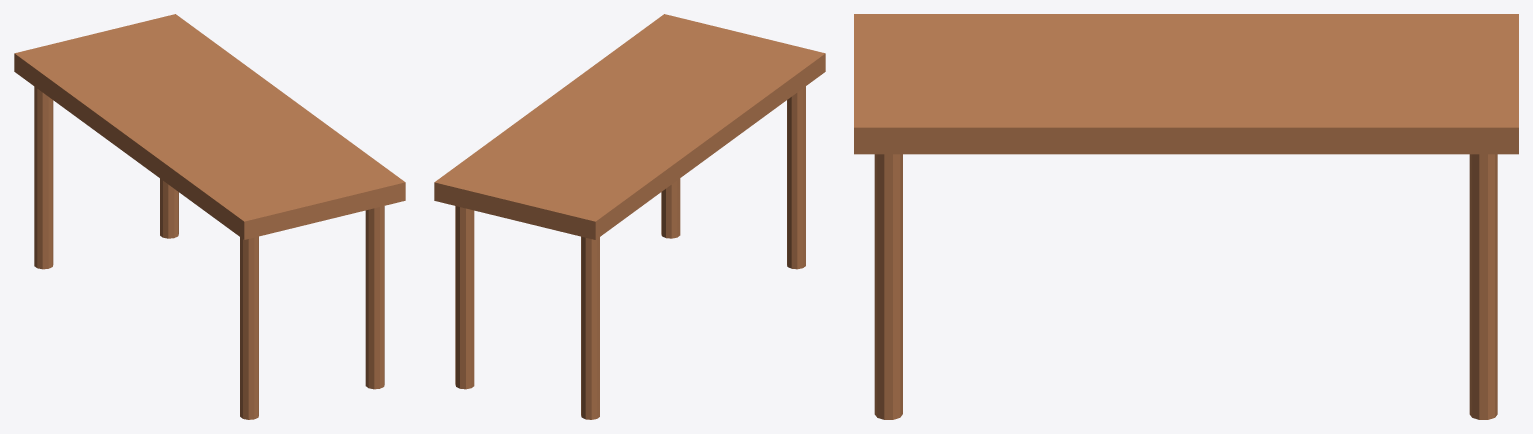
Rendered from Table.fbx.
3 views of the same model, side by side, from view 1: azimuth 30°, elevation 25°; view 2: azimuth 150°, elevation 25°; view 3: azimuth 270°, elevation 25° (orthographic). The views are drawn at different scales.
Parts seen in each view (by area): view 1: Table; view 2: Table; view 3: Table.
Boxes of the visible parts, left/top/right/bottom form: Table: left=14, top=14, right=405, bottom=419; Table: left=434, top=14, right=825, bottom=419; Table: left=854, top=14, right=1518, bottom=419.
Bounding box in the file's own units: 72.87 × 89.49 × 180.
